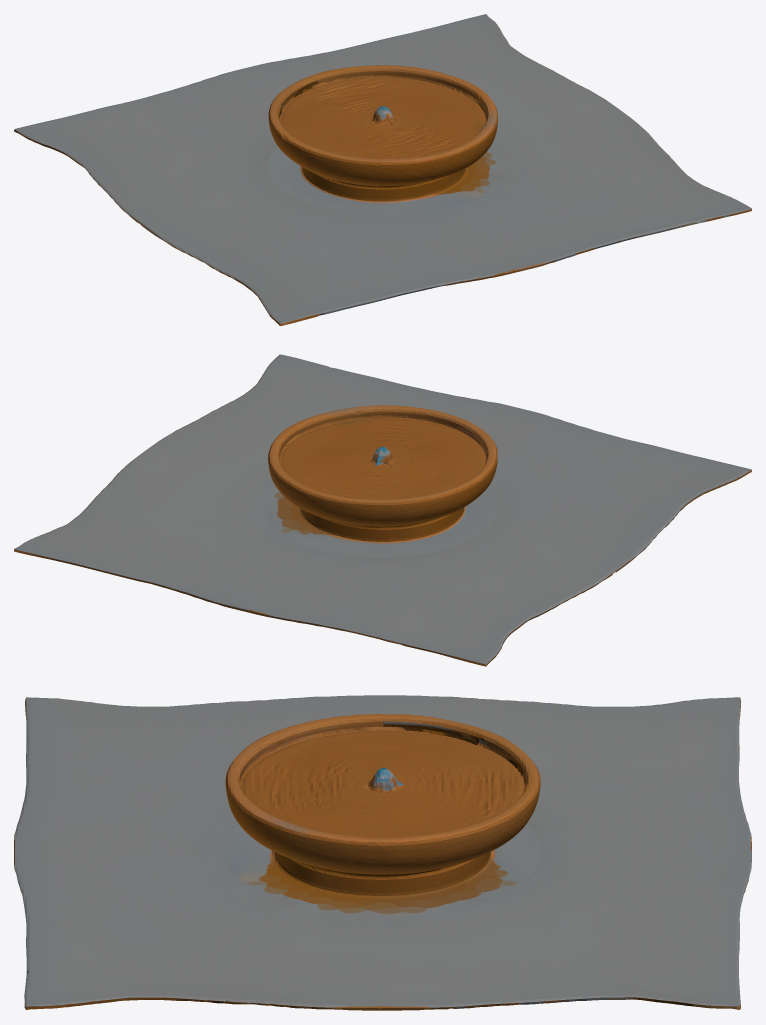
The model's file is room-02-water-bowl.glb.
The picture shows the model from 3 angles, top to bottom: view 1: azimuth 30°, elevation 25°; view 2: azimuth 150°, elevation 25°; view 3: azimuth 270°, elevation 25°; orthographic projection. The views are drawn at different scales.
Parts seen in each view (by area): view 1: textured_mesh.obj; view 2: textured_mesh.obj; view 3: textured_mesh.obj.
Boxes of the visible parts, left/top/right/bottom form: textured_mesh.obj: left=14, top=14, right=751, bottom=325; textured_mesh.obj: left=14, top=354, right=751, bottom=666; textured_mesh.obj: left=14, top=695, right=751, bottom=1010.
Bounding box in the file's own units: 6.1 × 0.8 × 6.1.
Materials: 1 (1 with a texture image).
